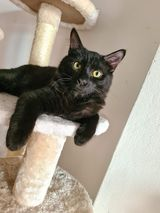cat: (1, 26, 131, 156)
